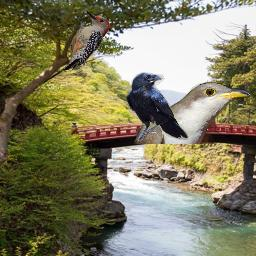Crow: (126, 72, 189, 141)
Cuckoo: (134, 82, 250, 144)
Woodpecker: (64, 11, 110, 70)
